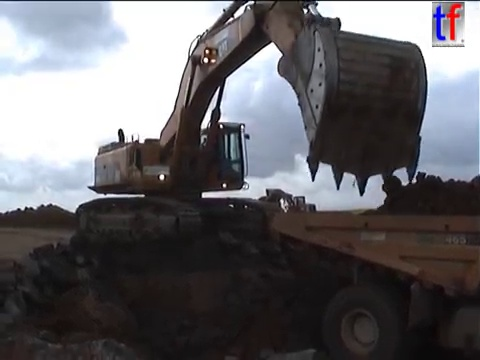excavator: (71, 1, 432, 249)
truck: (265, 207, 480, 360)
wheel loader: (260, 187, 319, 222)
